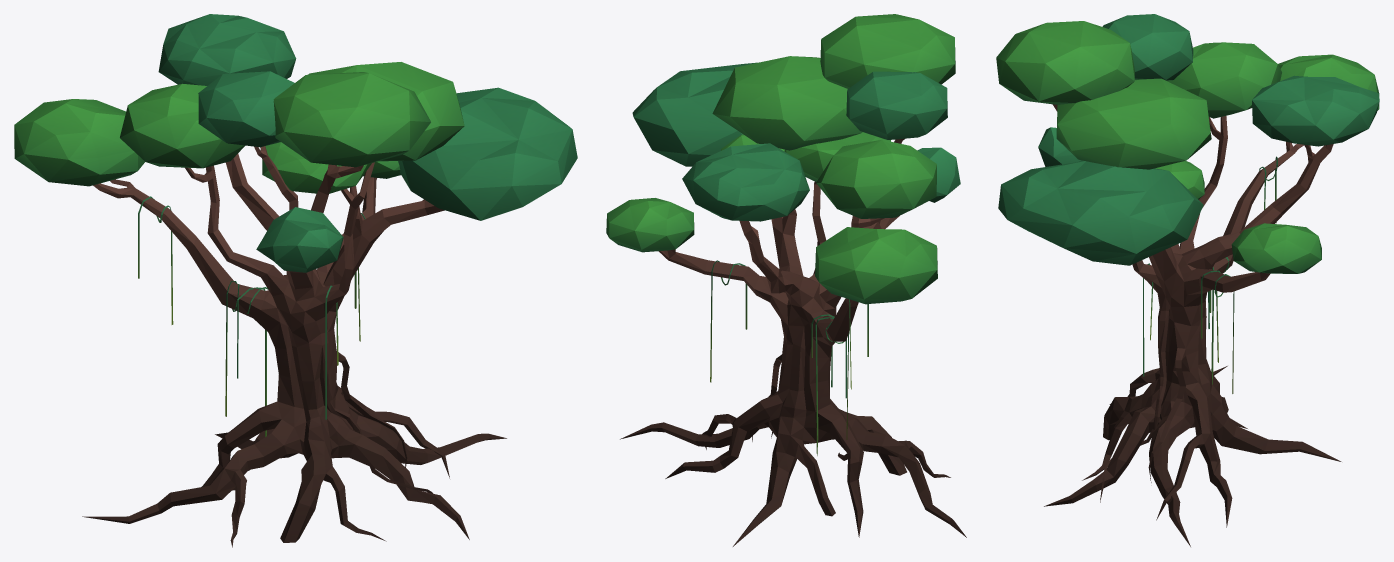
Rendered from ZLP_Plant_C_1.FBX.
The picture shows the model from 3 angles, left to right: view 1: azimuth 30°, elevation 25°; view 2: azimuth 150°, elevation 25°; view 3: azimuth 270°, elevation 25°; orthographic projection. The views are drawn at different scales.
Parts seen in each view (by area): view 1: ZLP_Plant_C_1; view 2: ZLP_Plant_C_1; view 3: ZLP_Plant_C_1.
Boxes of the visible parts, bbox=[...] form: ZLP_Plant_C_1: bbox=[14, 14, 577, 547]; ZLP_Plant_C_1: bbox=[606, 14, 966, 546]; ZLP_Plant_C_1: bbox=[996, 14, 1379, 546].
Size of the model in its own units: 1127 by 1179 by 962.
